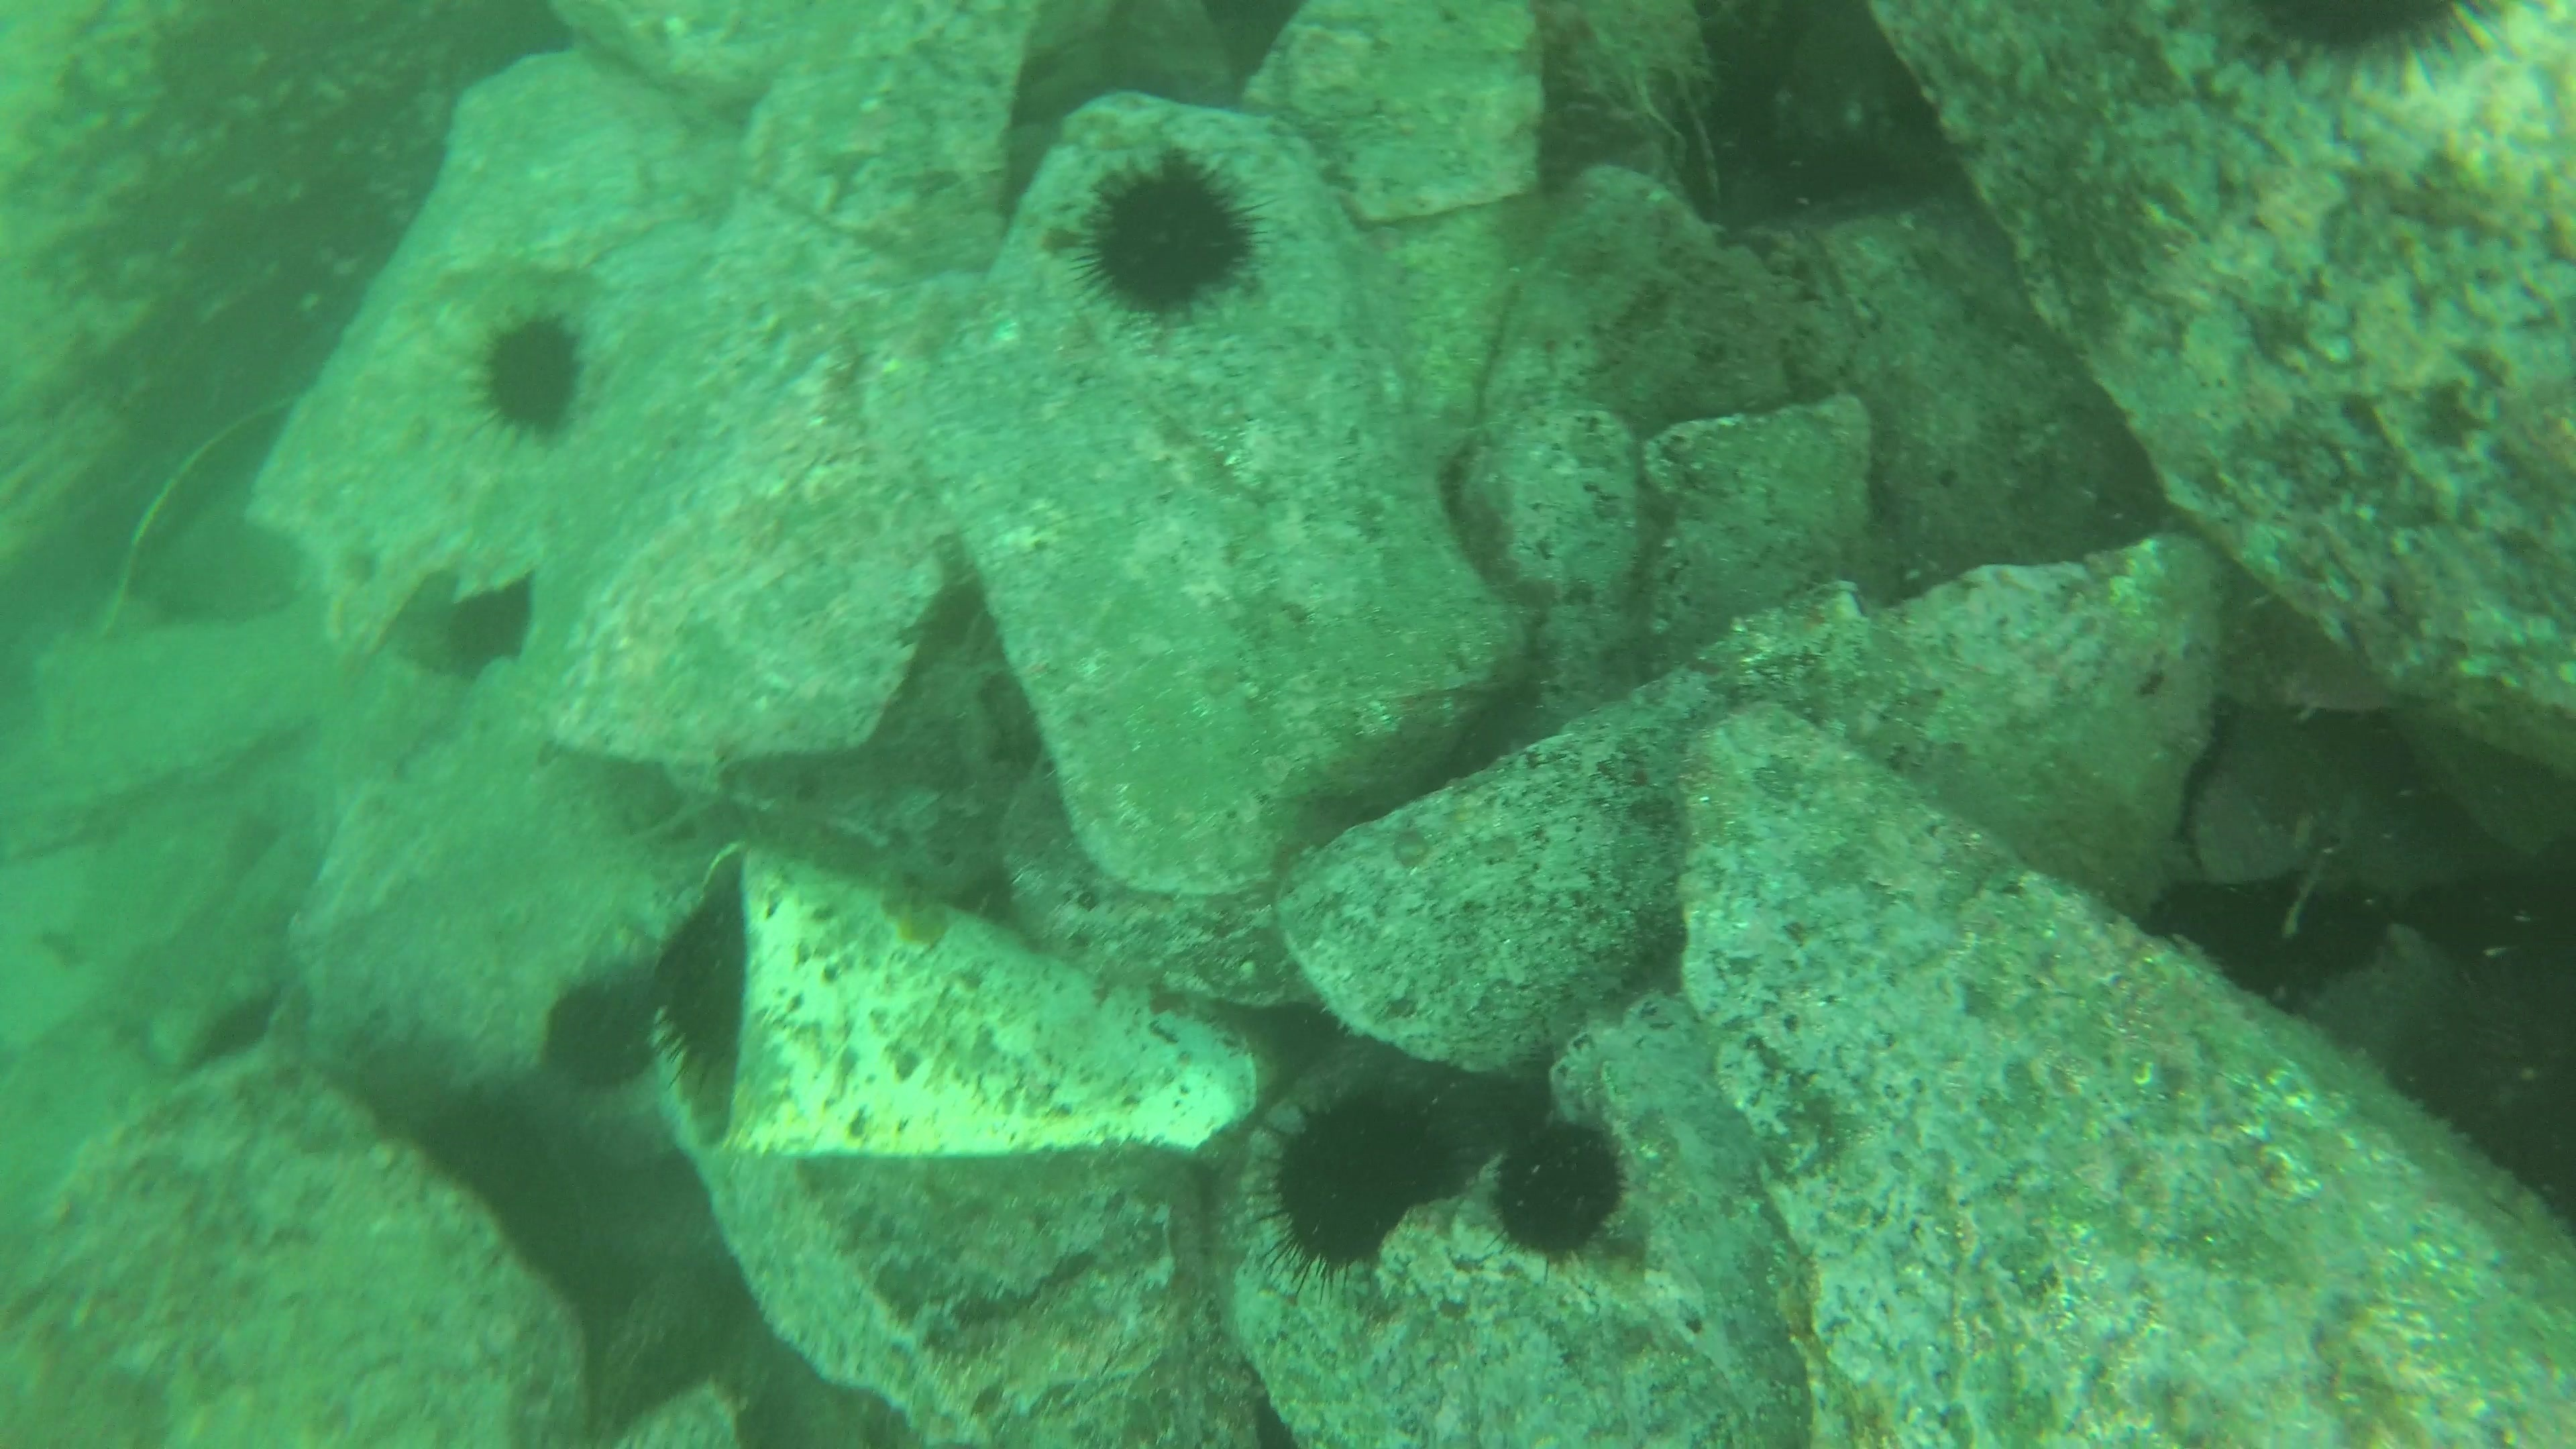echinus: (1253, 1077, 1465, 1279), (1065, 145, 1265, 324), (2201, 4, 2523, 103), (1483, 1116, 1633, 1263), (646, 916, 759, 1086), (465, 306, 594, 446), (536, 968, 667, 1097)
